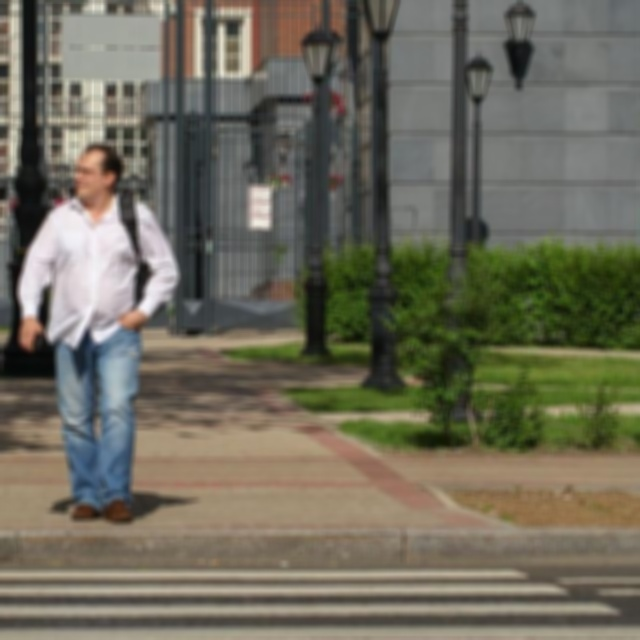Sin_Casco_Mascarrilla: (71, 143, 124, 200)
Sin_Chaleco: (50, 198, 146, 342)
